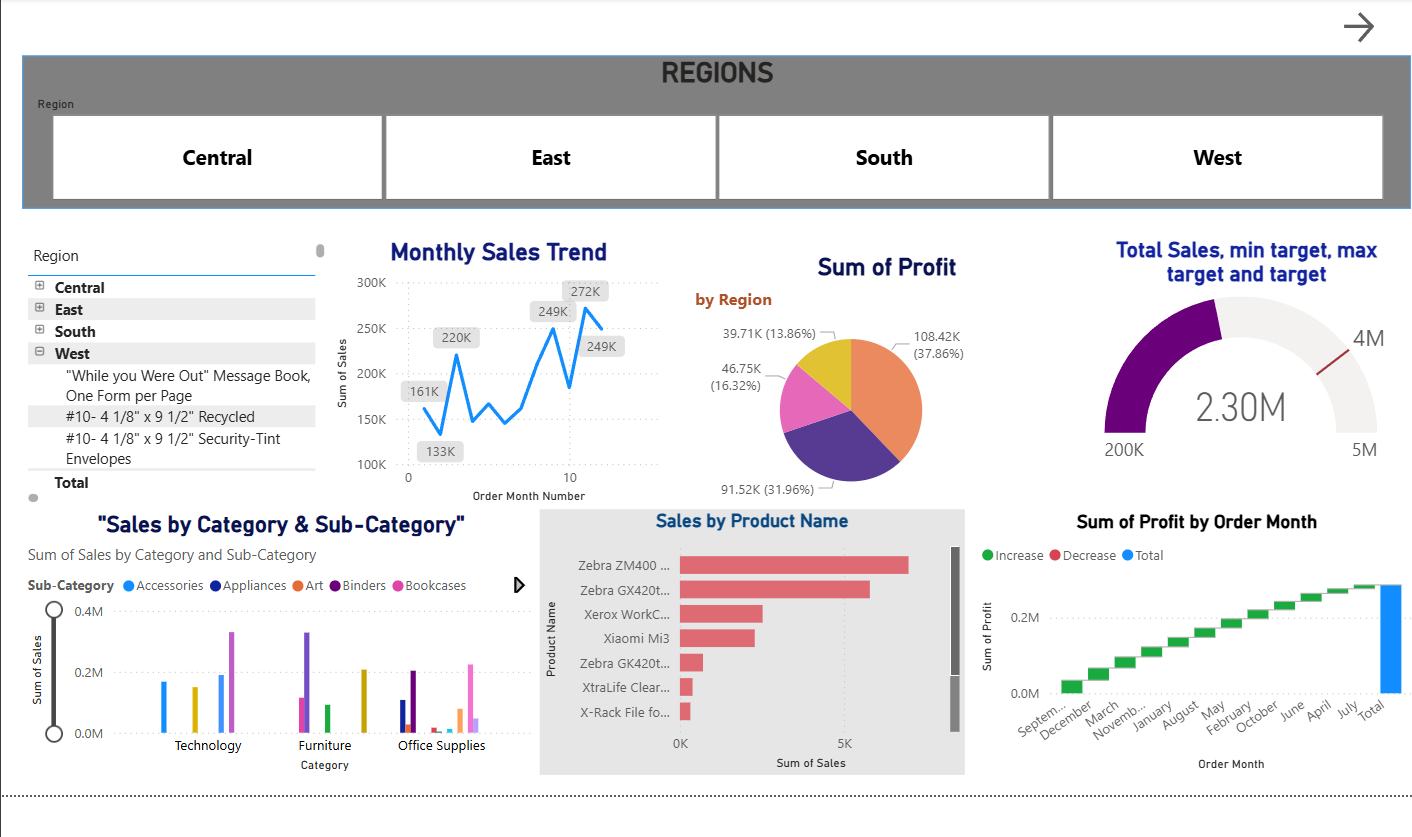

The dashboard page shown, as its layout file describes it:
{"tool":"powerbi","page":{"name":"Page 1","canvas":[1280,720],"ordinal":0},"visuals":[{"type":"lineChart","title":"Monthly Sales Trend","fields":{"Category":["Sample - Superstore.Order Month Number","Sample - Superstore.Order Year"],"Y":["Sum(Sample - Superstore.Sales)"]},"box":[297.8,216.8,303.3,244.3],"z":0},{"type":"clusteredColumnChart","title":"\"Sales by Category & Sub-Category\"","fields":{"Category":["Sample - Superstore.Category"],"Series":["Sample - Superstore.Sub-Category"],"Y":["Sum(Sample - Superstore.Sales)"]},"box":[19.2,462.4,467.9,240.1],"z":1000},{"type":"pieChart","fields":{"Category":["Sample - Superstore.Region"],"Y":["Sum(Sample - Superstore.Profit)"]},"box":[621.6,230.5,356.8,231.9],"z":2000},{"type":"barChart","title":"Sales by Product Name","fields":{"Category":["Sample - Superstore.Product Name"],"Y":["Sum(Sample - Superstore.Sales)"]},"box":[487,462,384,240],"z":3000},{"type":"textbox","box":[881,107,399,322],"z":4000},{"type":"gauge","fields":{"Y":["Sample - Superstore.Total Sales"],"MaxValue":["Sample - Superstore.target"],"MinValue":["Sample - Superstore.min target"],"TargetValue":["Sample - Superstore.target1"]},"box":[978.4,216.8,295,212.7],"z":5000},{"type":"waterfallChart","fields":{"Category":["Sample - Superstore.Order Month"],"Y":["Sum(Sample - Superstore.Profit)"]},"box":[881,462.4,399.3,240.1],"z":6000},{"type":"pivotTable","fields":{"Rows":["Sample - Superstore.Region","Sample - Superstore.Product Name"],"Columns":["Sample - Superstore.Category"],"Values":["Sample - Superstore.Total Sales"]},"box":[19.2,216.8,278.6,244.3],"z":7000},{"type":"slicer","title":"REGIONS","fields":{"Values":["Sample - Superstore.Region"]},"box":[19.2,52.1,1254.2,138.6],"z":8000},{"type":"actionButton","box":[1194.3,0,86,52.4],"z":9000}]}

Visuals, with their boxes on the page's 1280x720 design canvas (x1, y1, x2, y2). These are canvas units, not pixel positions in the 1412x837 screenshot, which may show the page scaled, cropped or inside an application window:
"Monthly Sales Trend" lineChart: region(298, 217, 601, 461)
""Sales by Category & Sub-Category"" clusteredColumnChart: region(19, 462, 487, 702)
pieChart - Sample - Superstore.Region x Sum(Sample - Superstore.Profit): region(622, 230, 978, 462)
"Sales by Product Name" barChart: region(487, 462, 871, 702)
textbox: region(881, 107, 1280, 429)
gauge - Sample - Superstore.Total Sales x Sample - Superstore.target: region(978, 217, 1273, 430)
waterfallChart - Sample - Superstore.Order Month x Sum(Sample - Superstore.Profit): region(881, 462, 1280, 702)
pivotTable - Sample - Superstore.Region x Sample - Superstore.Product Name: region(19, 217, 298, 461)
"REGIONS" slicer: region(19, 52, 1273, 191)
actionButton: region(1194, 0, 1280, 52)
